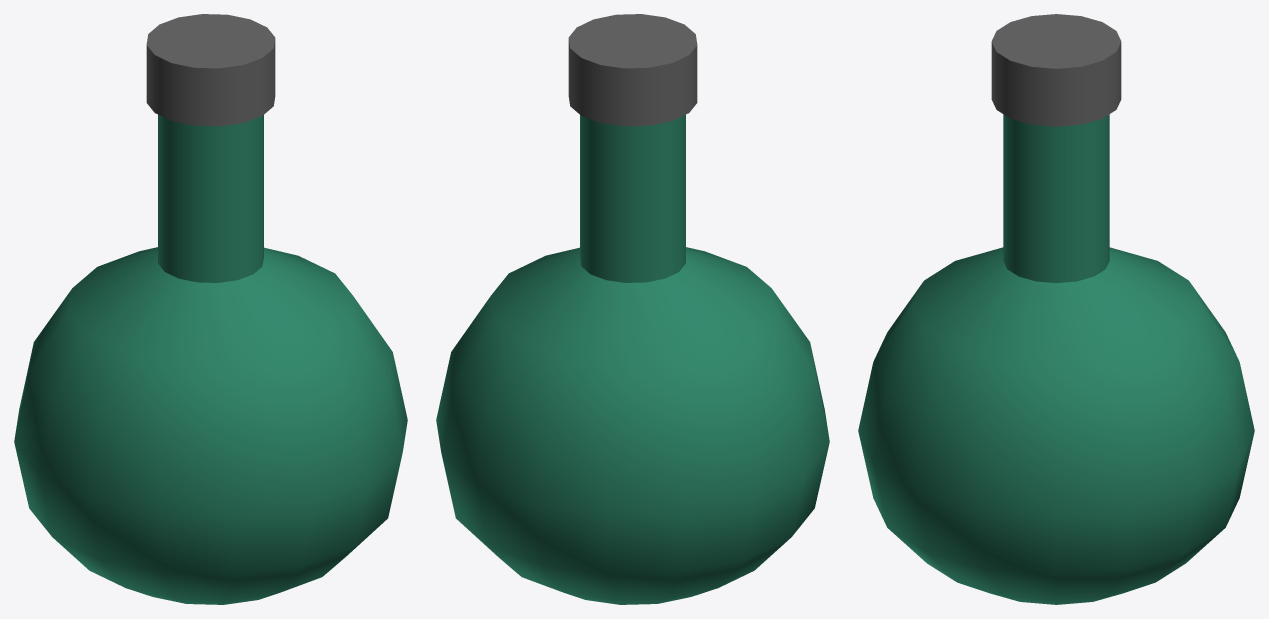
Rendered from flask2.fbx.
3 renders of one model, left to right at view 1: azimuth 30°, elevation 25°; view 2: azimuth 150°, elevation 25°; view 3: azimuth 270°, elevation 25°, orthographic.
Parts seen in each view (by area): view 1: flask2; view 2: flask2; view 3: flask2.
Part boxes in pixels (box(x1,y1,x2,y2)): flask2: box(14, 14, 407, 604); flask2: box(436, 14, 829, 604); flask2: box(858, 14, 1254, 604).
Bounding box in the file's own units: 0.381 × 0.5545 × 0.381.
